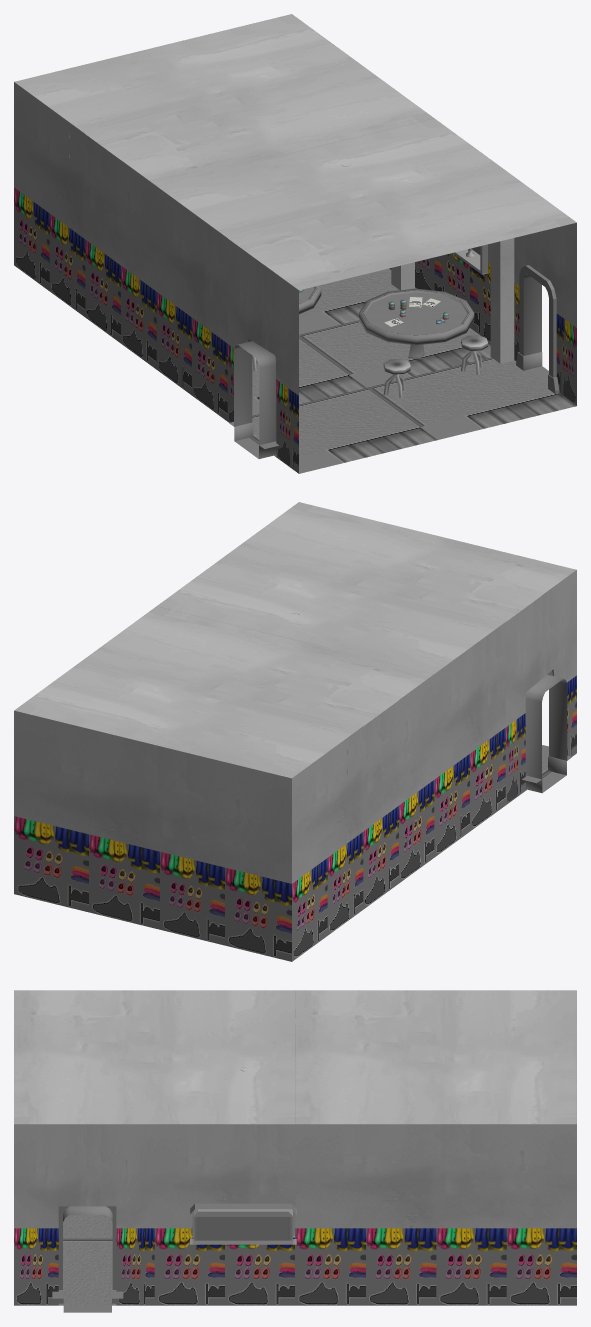
Rendered from MSH_Game_room_L2_R1_optimized.fbx.
3 views of the same model, one above another, from view 1: azimuth 30°, elevation 25°; view 2: azimuth 150°, elevation 25°; view 3: azimuth 270°, elevation 25° (orthographic).
Visible parts, largest first — view 1: lightmap1, lightmap-1; view 2: lightmap1, lightmap-1; view 3: lightmap1, lightmap-1.
Part boxes in pixels (x1,y1,x2,y2): lightmap1: (14, 14, 576, 473); lightmap-1: (234, 274, 548, 458); lightmap1: (14, 502, 576, 961); lightmap-1: (525, 674, 567, 793); lightmap1: (14, 990, 576, 1305); lightmap-1: (63, 1206, 112, 1312).
Size of the model in its own units: 10.3 by 5.87 by 16.51.
